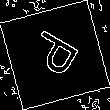P_SE: (24, 26, 86, 84)
